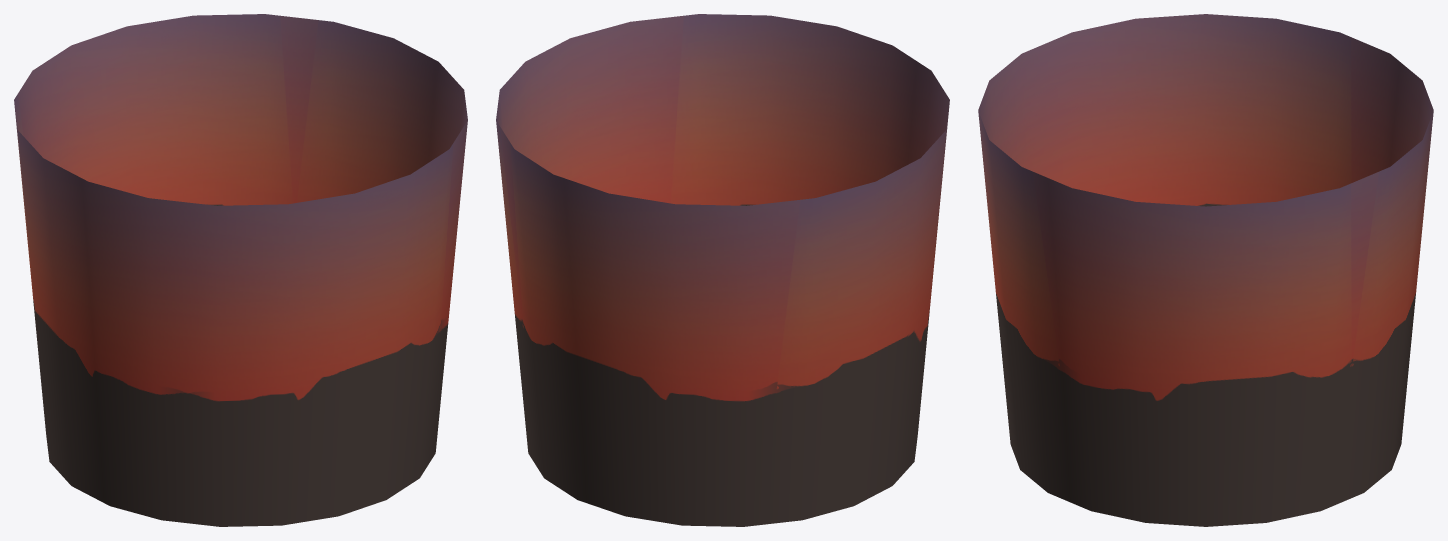
Rendered from SkyBox.obj.
3 renders of one model, left to right at view 1: azimuth 30°, elevation 25°; view 2: azimuth 150°, elevation 25°; view 3: azimuth 270°, elevation 25°, orthographic.
Parts seen in each view (by area): view 1: sky:pCylinder1; view 2: sky:pCylinder1; view 3: sky:pCylinder1.
Part boxes in pixels (box(x1,y1,x2,y2)): sky:pCylinder1: box(14, 14, 467, 526); sky:pCylinder1: box(496, 14, 949, 526); sky:pCylinder1: box(978, 14, 1433, 526).
Size of the model in its own units: 304 by 246 by 304.
1 material, 1 textured.
